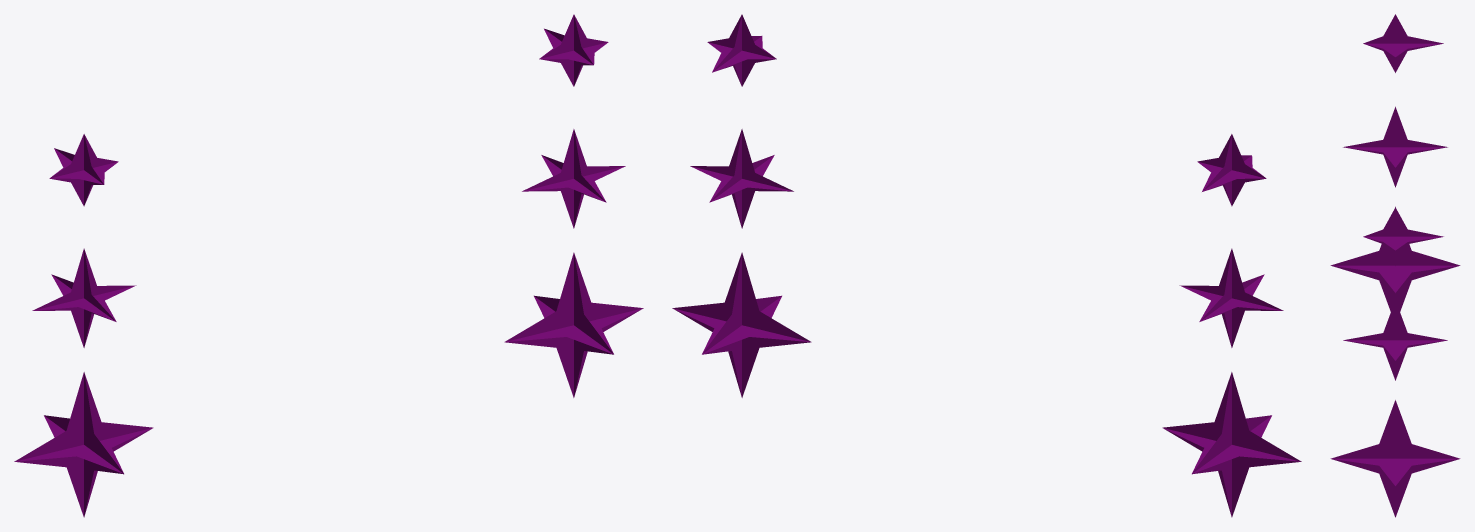
File: model_3117_spotanim.obj
3 views of the same model, side by side, from view 1: azimuth 30°, elevation 25°; view 2: azimuth 150°, elevation 25°; view 3: azimuth 270°, elevation 25° (orthographic). The views are drawn at different scales.
Parts seen in each view (by area): view 1: 3117; view 2: 3117; view 3: 3117.
Boxes of the visible parts, x1,y1,x2,y2 form: 3117: (14,14,643,517); 3117: (672,14,1301,517); 3117: (1330,14,1460,517).
Bounding box in the file's own units: 144 × 84 × 32.
